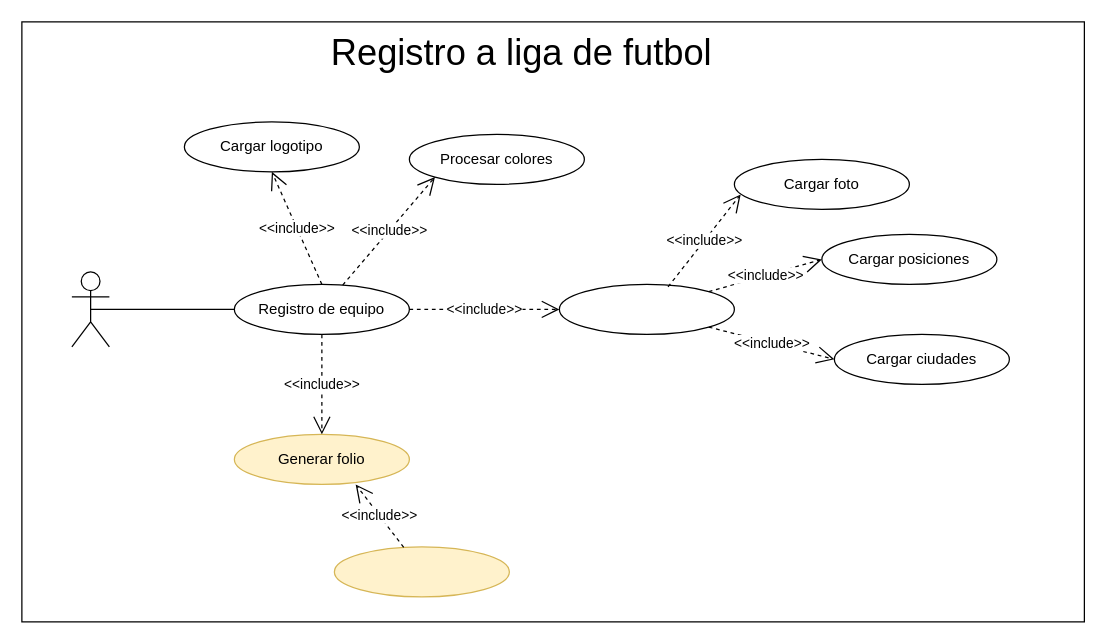
Image size: 1106x644. Some labels were removed from this diagram. Each missing label, with the centre of its shape:
"Empleado" goes at (x=90, y=309).
"Enviar correo" goes at (x=421, y=571).
"Registrar Miembro" goes at (x=646, y=308).
